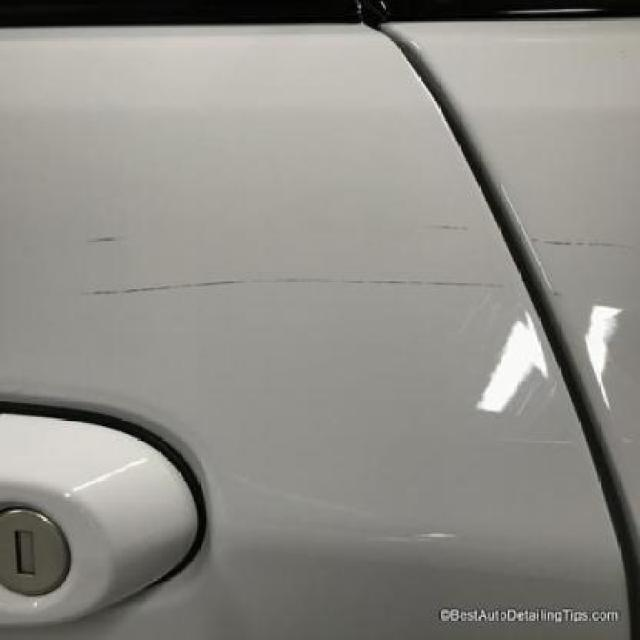scratch: (76, 261, 560, 304), (529, 224, 640, 267), (78, 222, 135, 253), (423, 214, 481, 241)
